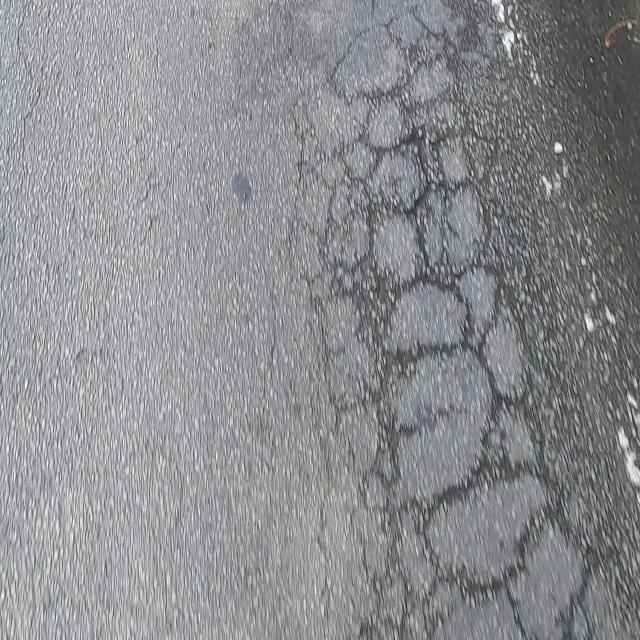Retak-Buaya: (290, 9, 638, 640)
